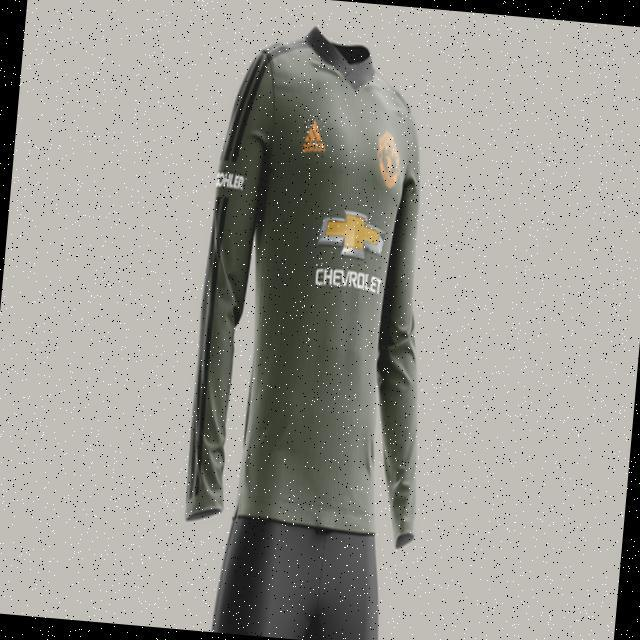Adidas: (301, 117, 326, 159)
Chevrolet: (314, 207, 389, 294)
Kohler: (217, 169, 247, 192)
